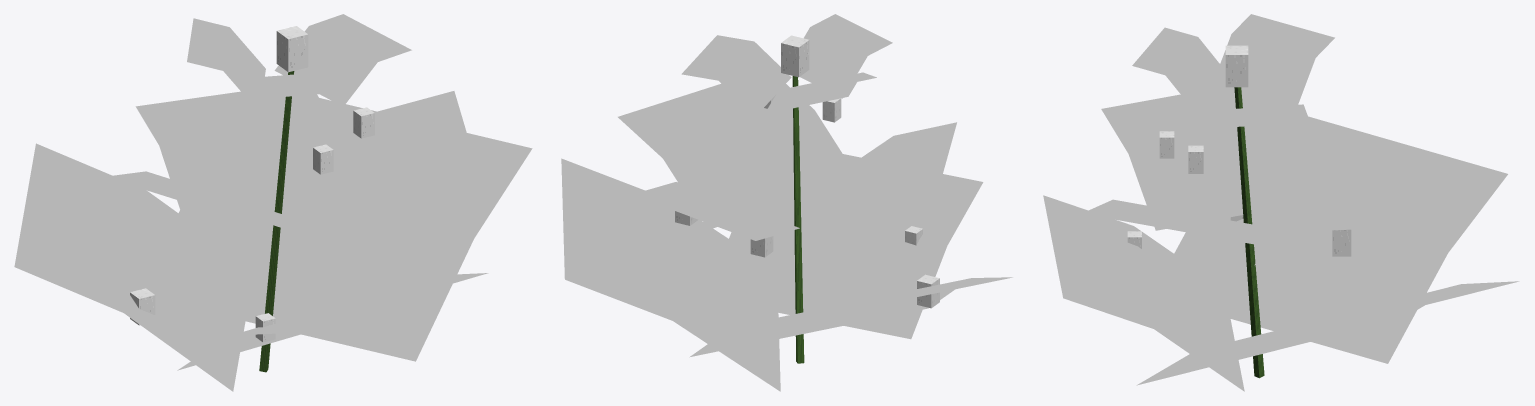
The model's file is plant_2_3_2_lod.obj.
3 views of the same model, side by side, from view 1: azimuth 30°, elevation 25°; view 2: azimuth 150°, elevation 25°; view 3: azimuth 270°, elevation 25° (orthographic). The views are drawn at different scales.
Parts seen in each view (by area): view 1: model; view 2: model; view 3: model.
Part boxes in pixels (left/top/right/bottom): model: left=14, top=14, right=532, bottom=391; model: left=561, top=14, right=1012, bottom=391; model: left=1043, top=14, right=1519, bottom=391.
Bounding box in the file's own units: 1.12 × 0.7188 × 0.9319.
